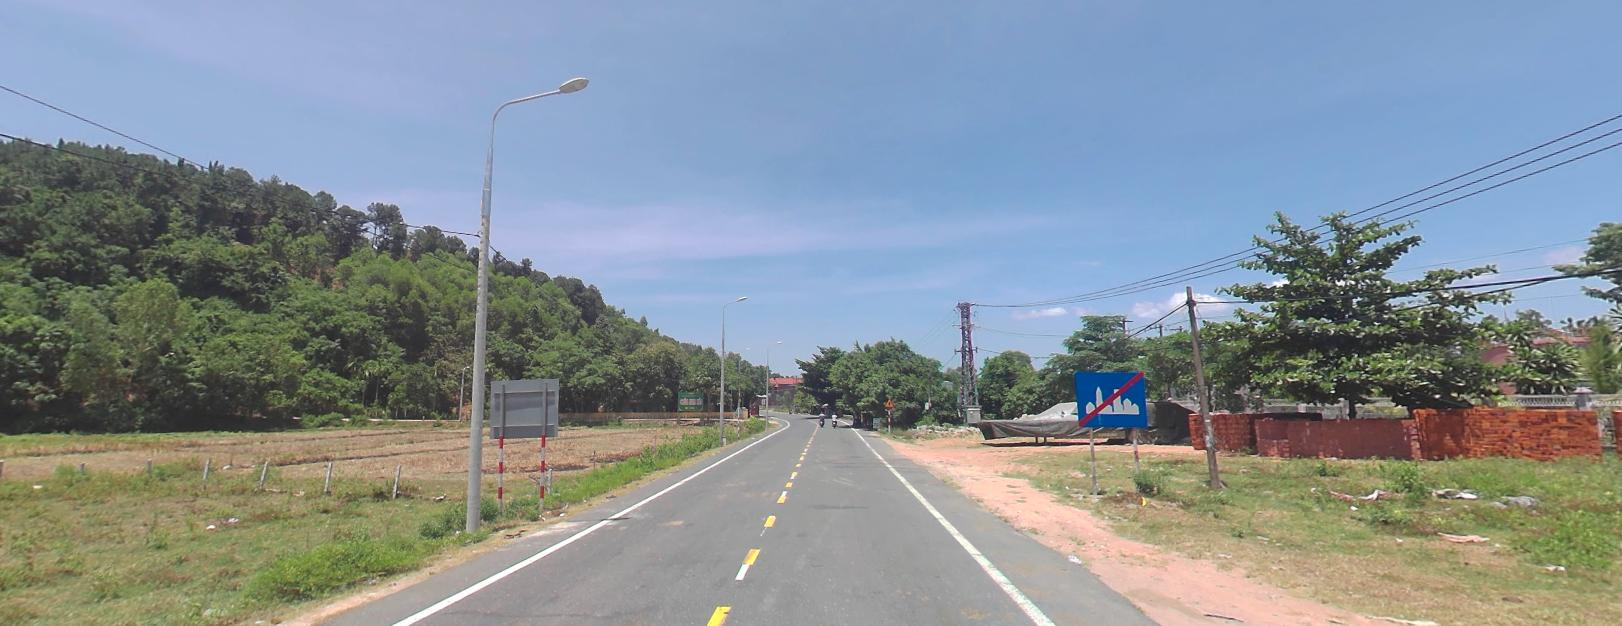Nguy hiem: (884, 396, 894, 406)
